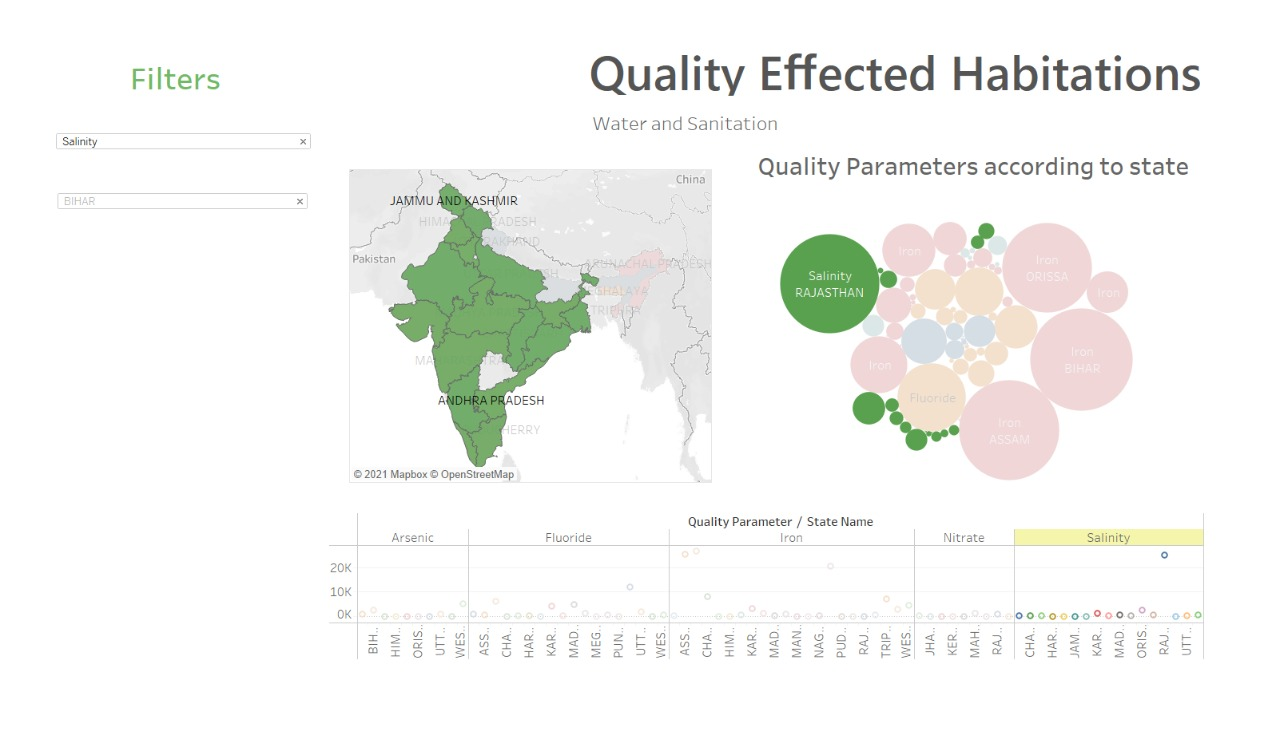

The dashboard page shown, as its layout file describes it:
{"tool":"tableau","page":{"name":"Dashboard 1","canvas":[1500,800],"ordinal":0},"visuals":[{"type":"worksheet","box":[0,0,1500,800]},{"type":"worksheet","param":"horz","box":[8,8,1484,784]},{"type":"worksheet","param":"horz","box":[8,8,1484,784]},{"type":"worksheet","param":"horz","box":[8,8,1484,784]},{"type":"worksheet","box":[8,8,1484,784]},{"type":"worksheet","box":[38,19,330,758]},{"type":"worksheet","box":[413,20,1074,63]},{"type":"worksheet","box":[40,28,326,64]},{"type":"worksheet","box":[718,86,164,32]},{"type":"worksheet","title":"Sheet 1","mark":"Multipolygon","param":"[federated.176jdgx1gr8fd319z43dm00td251].[none:Quality Parameter:nk]","box":[47,105,318,71]},{"type":"worksheet","title":"Sheet 1","mark":"Multipolygon","param":"[federated.176jdgx1gr8fd319z43dm00td251].[none:State Name:nk]","box":[51,156,312,50]},{"type":"worksheet","title":"Sheet 1","mark":"Multipolygon","box":[417,160,454,408]},{"type":"worksheet","box":[907,176,563,43]},{"type":"worksheet","title":"Sheet 2","mark":"Circle","box":[888,225,578,340]},{"type":"worksheet","box":[41,253,318,476]},{"type":"worksheet","title":"Sheet 3","mark":"Shape","cols":["Quality Parameter","State Name"],"box":[392,591,1095,199]}]}

Visuals, with their boxes on the page's 1500x800 design canvas (x1, y1, x2, y2). These are canvas units, not pixel positions in the 1280x755 screenshot, which may show the page scaled, cropped or inside an application window:
worksheet: (0,0,1500,800)
worksheet: (8,8,1492,792)
worksheet: (8,8,1492,792)
worksheet: (8,8,1492,792)
worksheet: (8,8,1492,792)
worksheet: (38,19,368,777)
worksheet: (413,20,1487,83)
worksheet: (40,28,366,92)
worksheet: (718,86,882,118)
"Sheet 1" worksheet (Multipolygon marks): (47,105,365,176)
"Sheet 1" worksheet (Multipolygon marks): (51,156,363,206)
"Sheet 1" worksheet (Multipolygon marks): (417,160,871,568)
worksheet: (907,176,1470,219)
"Sheet 2" worksheet (Circle marks): (888,225,1466,565)
worksheet: (41,253,359,729)
"Sheet 3" worksheet (Shape marks): (392,591,1487,790)
